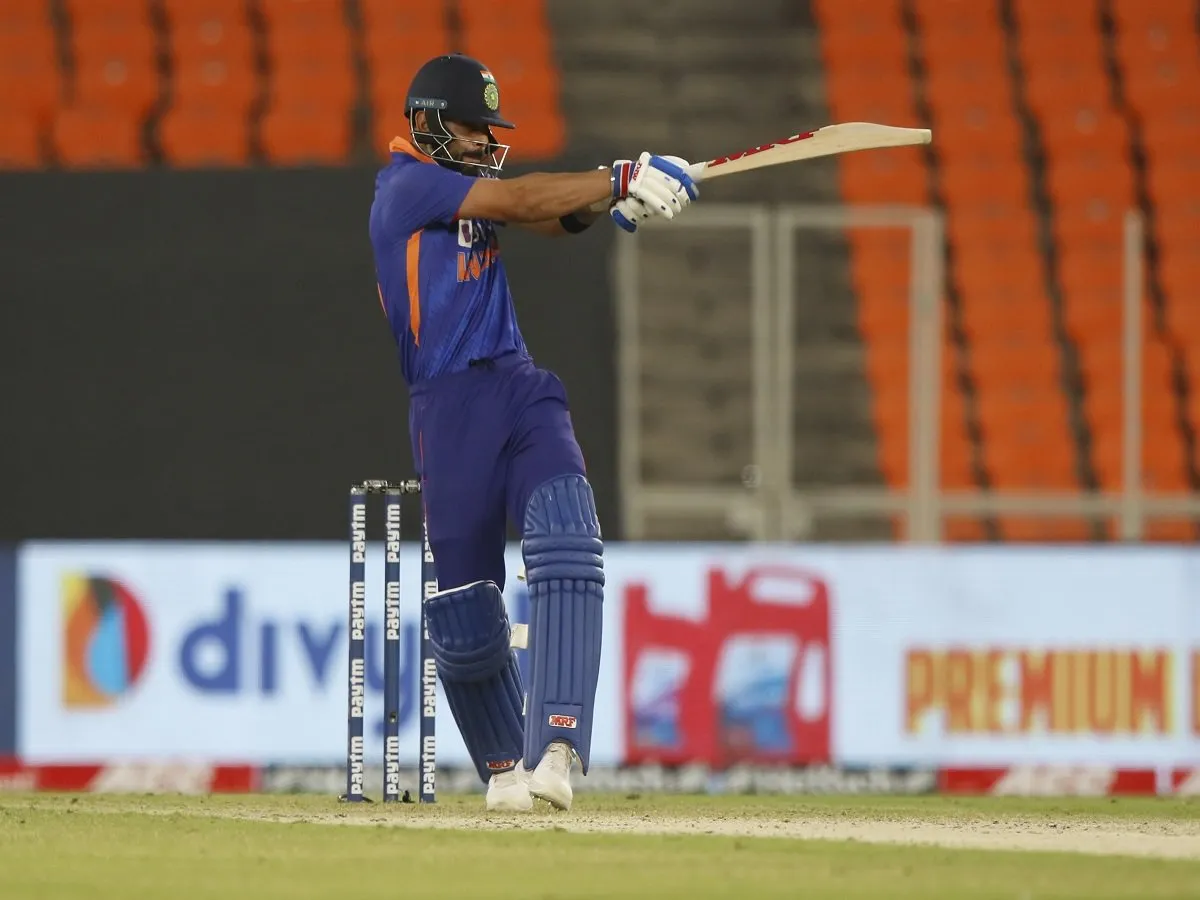Pullshot: (177, 0, 1027, 900)
